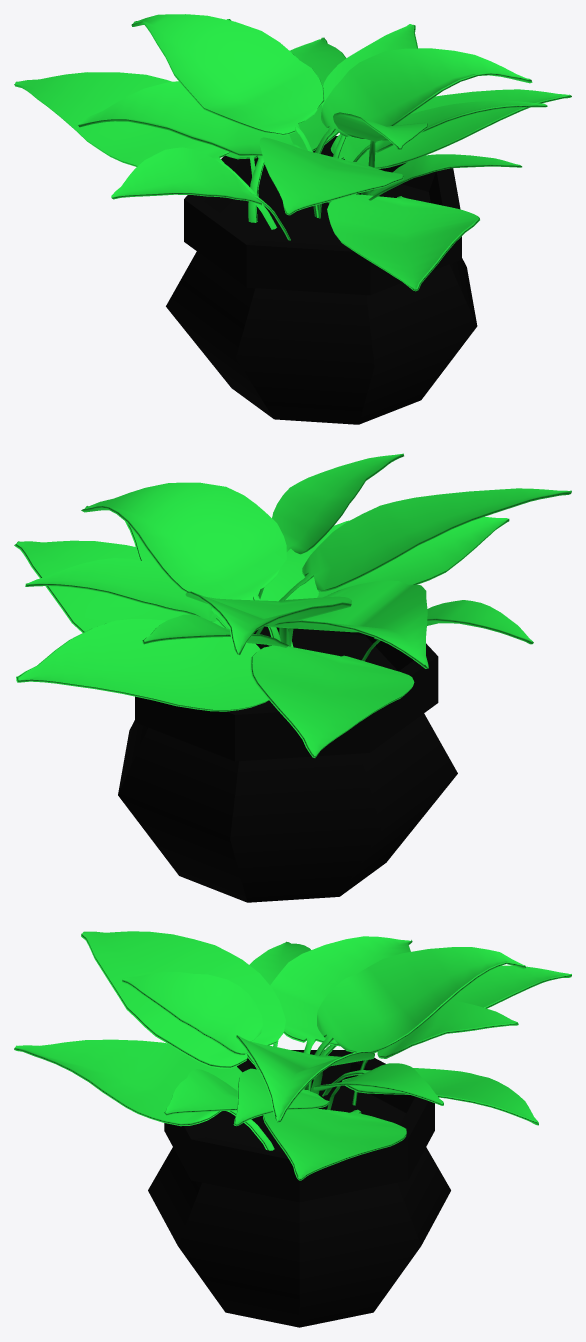
Rendered from MACETA GORDA 1.fbx.
3 renders of one model, top to bottom at view 1: azimuth 30°, elevation 25°; view 2: azimuth 150°, elevation 25°; view 3: azimuth 270°, elevation 25°, orthographic. The views are drawn at different scales.
Visible parts, largest first — view 1: HELECHO, maceta_gorda; view 2: HELECHO, maceta_gorda; view 3: HELECHO, maceta_gorda.
Boxes of the visible parts, box(x1,y1,x2,y2) form: HELECHO: box(14, 14, 571, 291); maceta_gorda: box(166, 136, 477, 424); HELECHO: box(14, 453, 571, 757); maceta_gorda: box(118, 626, 457, 902); HELECHO: box(14, 931, 571, 1180); maceta_gorda: box(148, 1050, 450, 1327).
Size of the model in its own units: 574 by 370 by 616.
